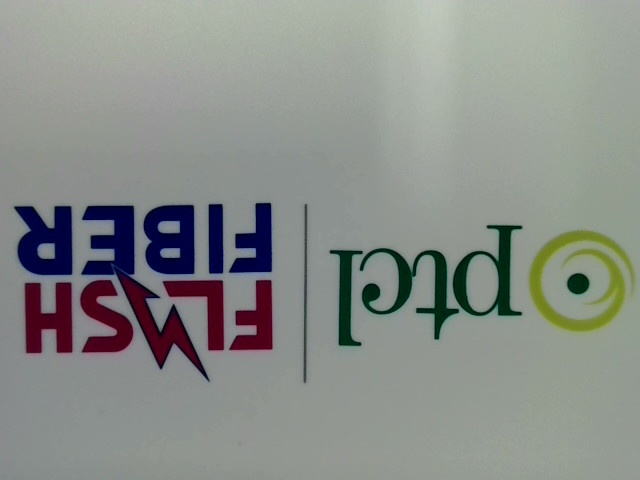BF_PTCL: (325, 216, 635, 353)
